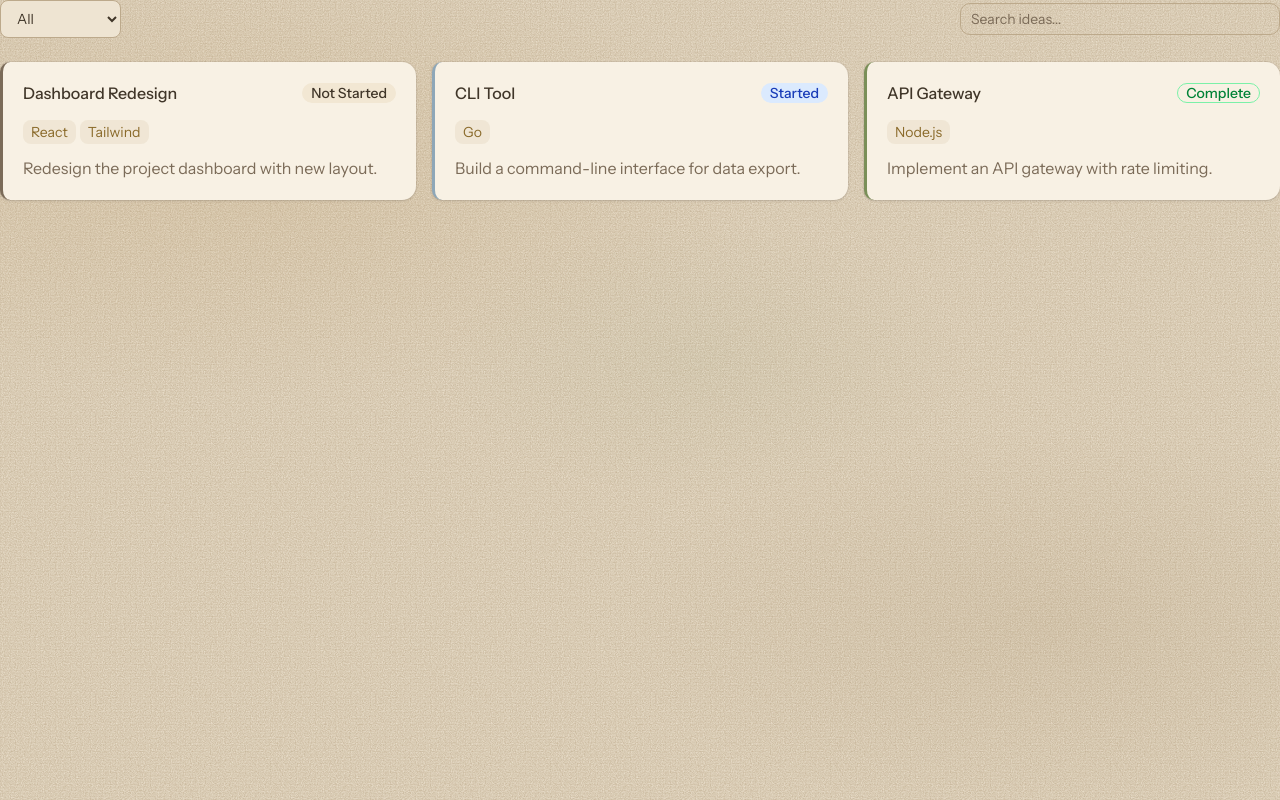
Test case: IdeasGrid › filters by complete status
This screenshot has width=1280, height=800.
Select "Complete" in the dropdown named "Filter by status" at (60, 19), box [0, 0, 121, 38]
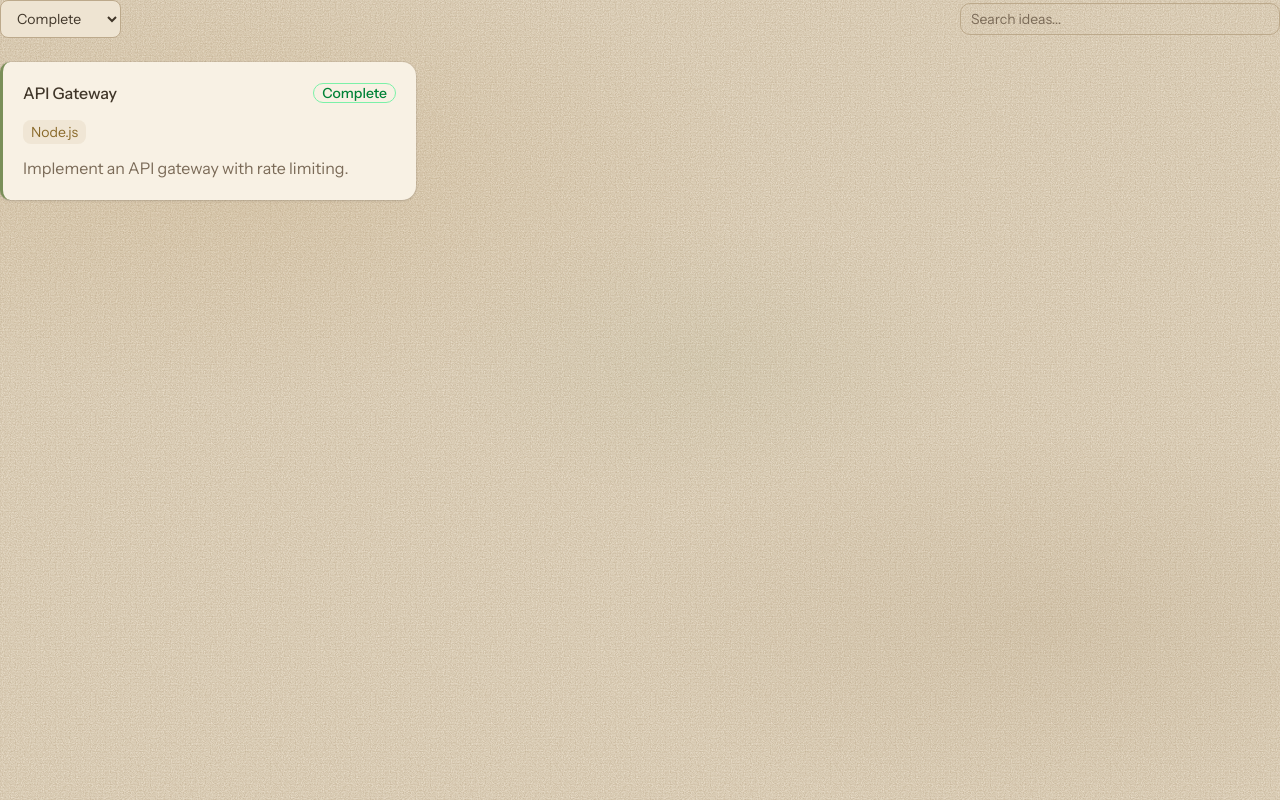
Check: the text "API Gateway" is shown, box [23, 82, 117, 104]
Check: the link "Dashboard Redesign" is gone
Check: the link "CLI Tool" is gone
